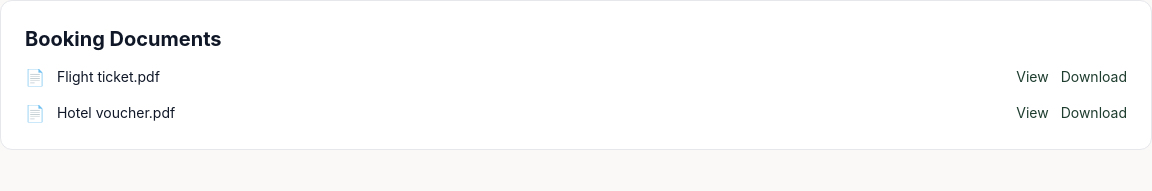
it: BookingDocuments › surfaces an inline error and saves no file when fetch rejects
Click the button "Download" in the row of "Flight ticket.pdf". click: (1094, 77)
box: [1061, 67, 1127, 87]
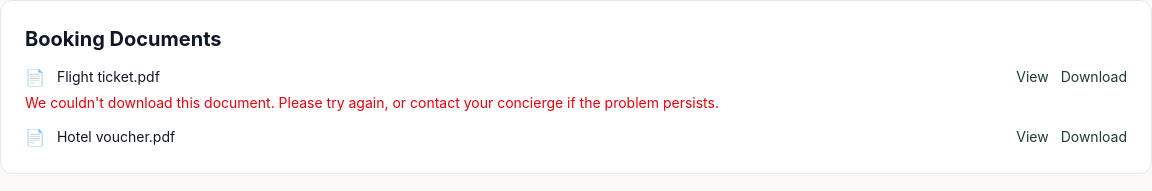
Expected: the text "We couldn't download this document. Please try again, or contact your concierge if the problem persists." is shown, [25, 94, 719, 111]
